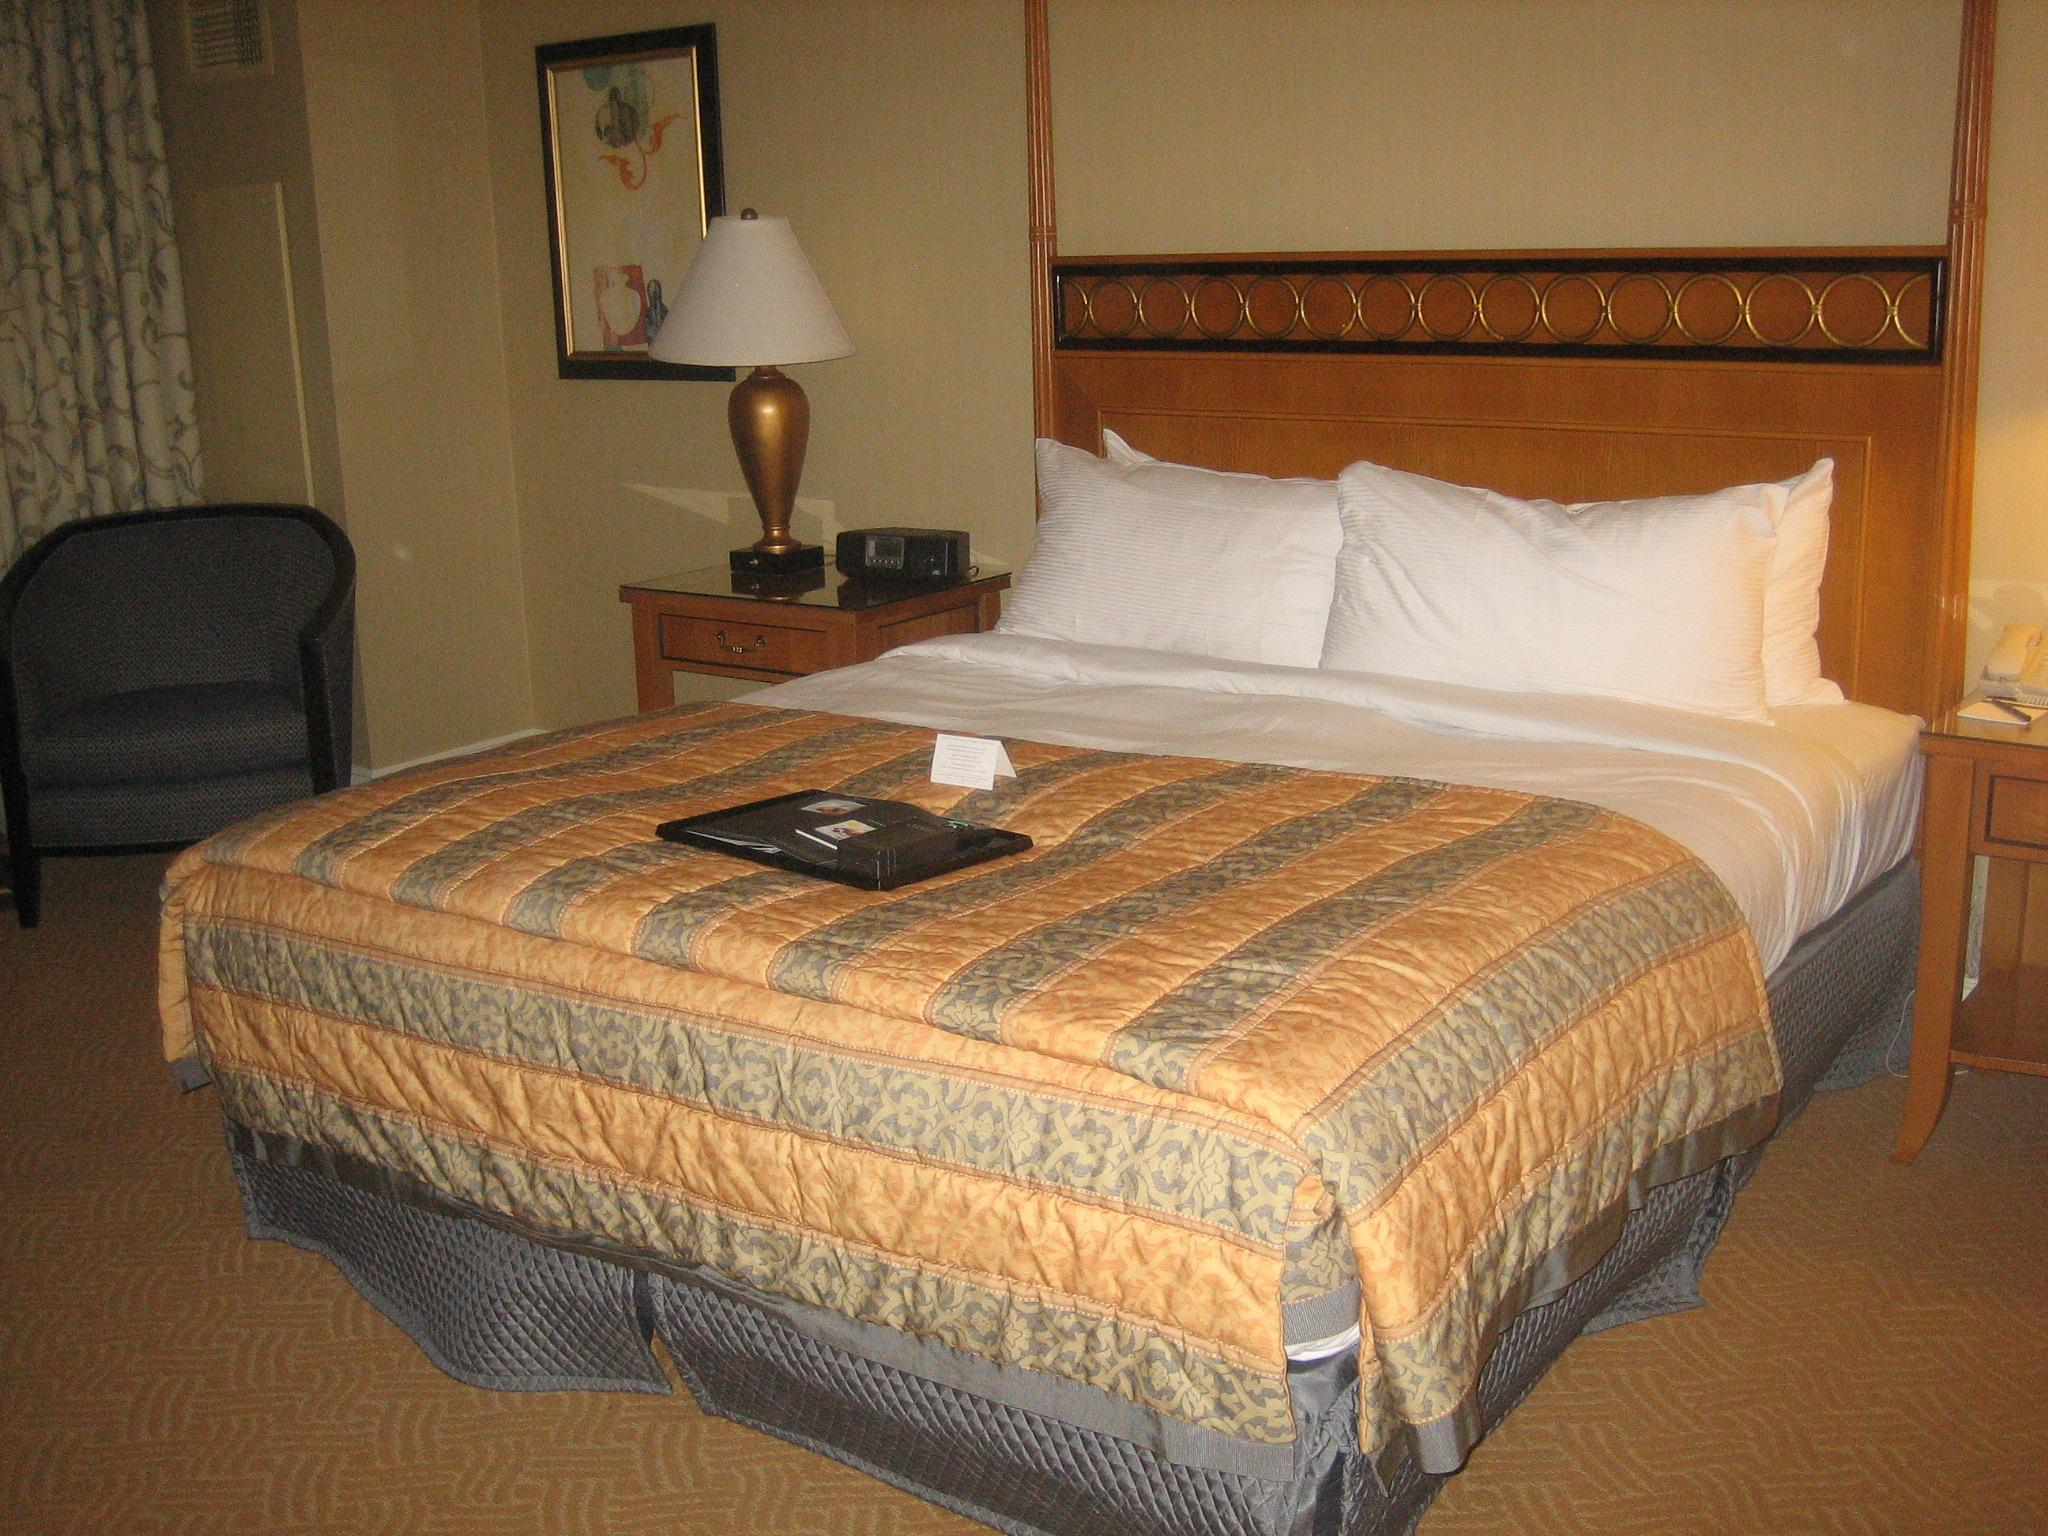Cama: (214, 244, 1977, 1525)
